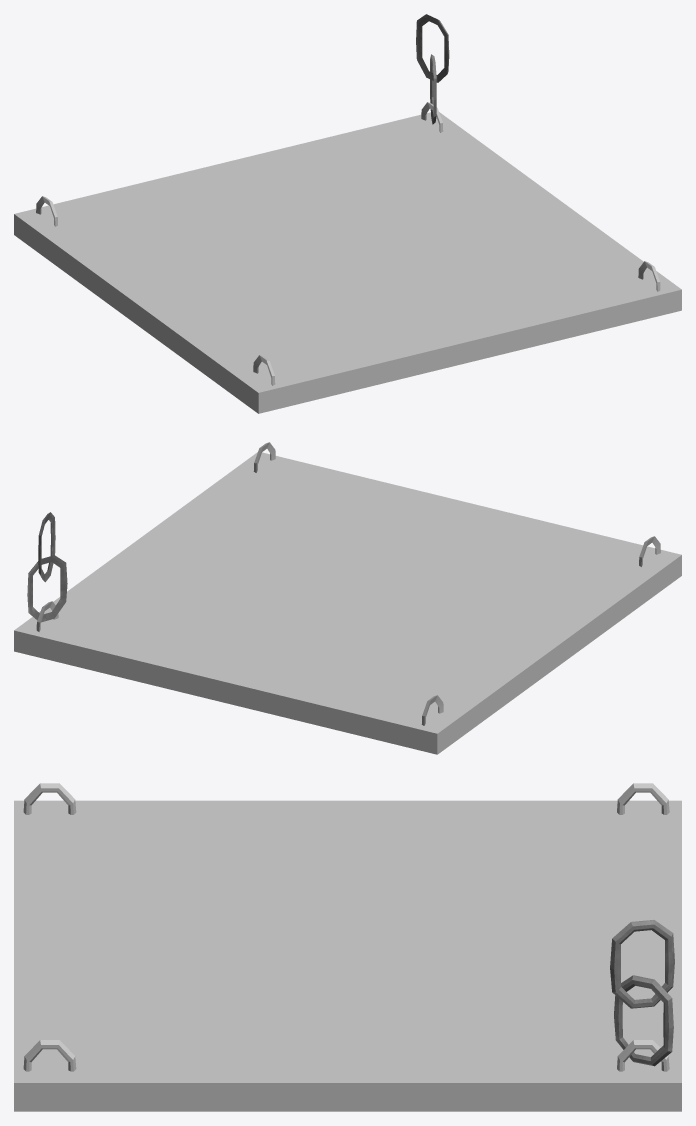
The model's file is yuka.fbx.
3 views of the same model, one above another, from view 1: azimuth 30°, elevation 25°; view 2: azimuth 150°, elevation 25°; view 3: azimuth 270°, elevation 25° (orthographic). The views are drawn at different scales.
Visible parts, largest first — view 1: pCube1, pTorus8, pTorus6; view 2: pCube1, pTorus8, pTorus6; view 3: pCube1, pTorus8, pTorus6.
Part boxes in pixels (left/top/right/bottom): pCube1: left=14, top=112, right=681, bottom=413; pTorus8: left=416, top=14, right=449, bottom=124; pTorus6: left=36, top=102, right=660, bottom=385; pCube1: left=14, top=452, right=681, bottom=754; pTorus8: left=27, top=512, right=67, bottom=622; pTorus6: left=36, top=442, right=660, bottom=725; pCube1: left=14, top=800, right=681, bottom=1111; pTorus8: left=610, top=920, right=674, bottom=1066; pTorus6: left=23, top=783, right=669, bottom=1071.
Size of the model in its own units: 5.55 by 1.63 by 5.55.
